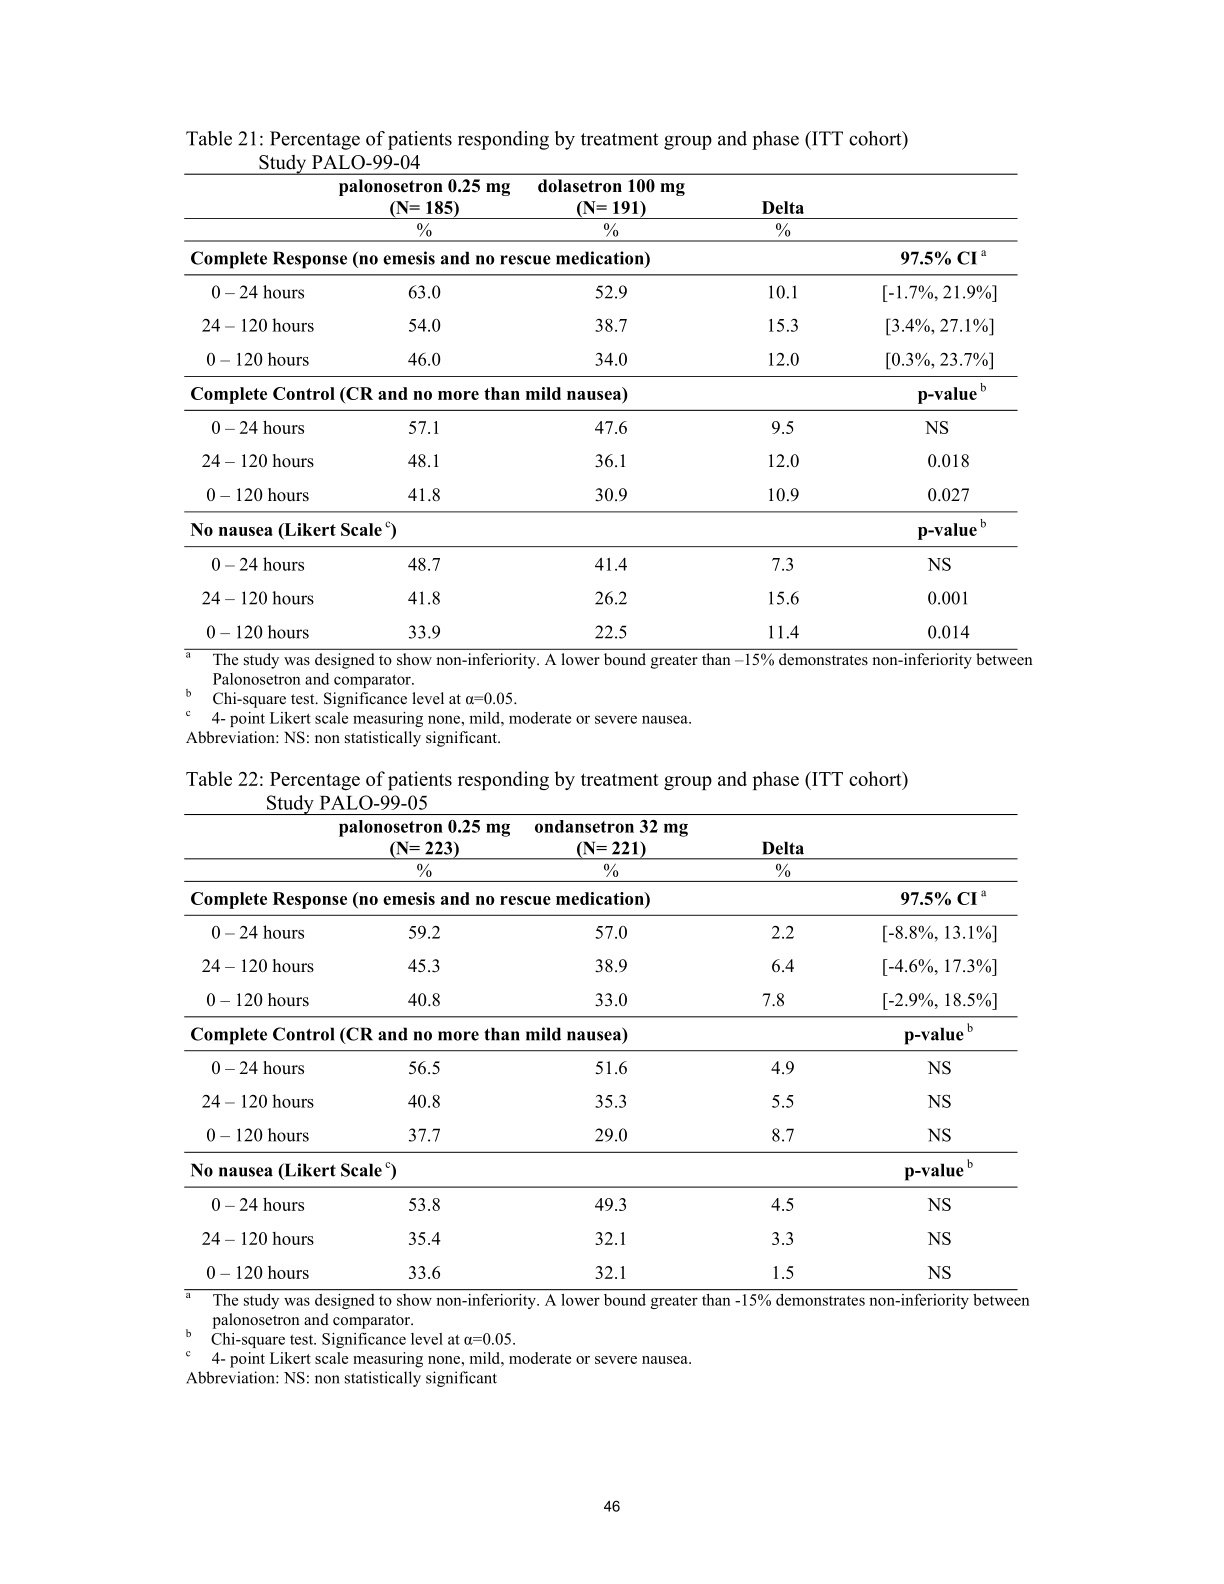partial_lined_merged_cells: (180, 172, 1022, 652), (183, 813, 1018, 1292)
